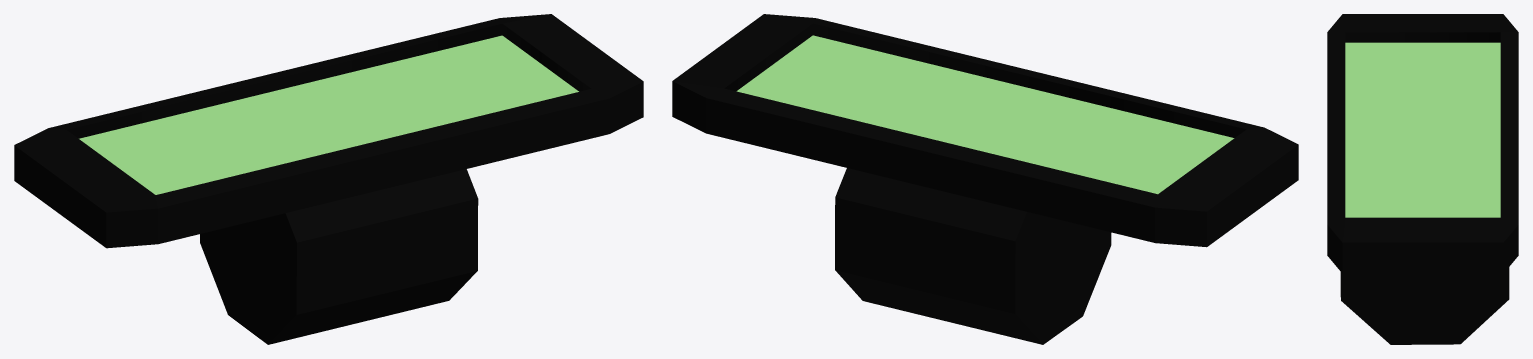
File: voltmeter.fbx
3 views of the same model, side by side, from view 1: azimuth 30°, elevation 25°; view 2: azimuth 150°, elevation 25°; view 3: azimuth 270°, elevation 25° (orthographic). The views are drawn at different scales.
Parts seen in each view (by area): view 1: voltmeter; view 2: voltmeter; view 3: voltmeter.
Boxes of the visible parts, bbox=[...] form: voltmeter: bbox=[14, 14, 643, 344]; voltmeter: bbox=[672, 14, 1298, 344]; voltmeter: bbox=[1327, 14, 1518, 344].
Bounding box in the file's own units: 197 × 71.03 × 69.78.
